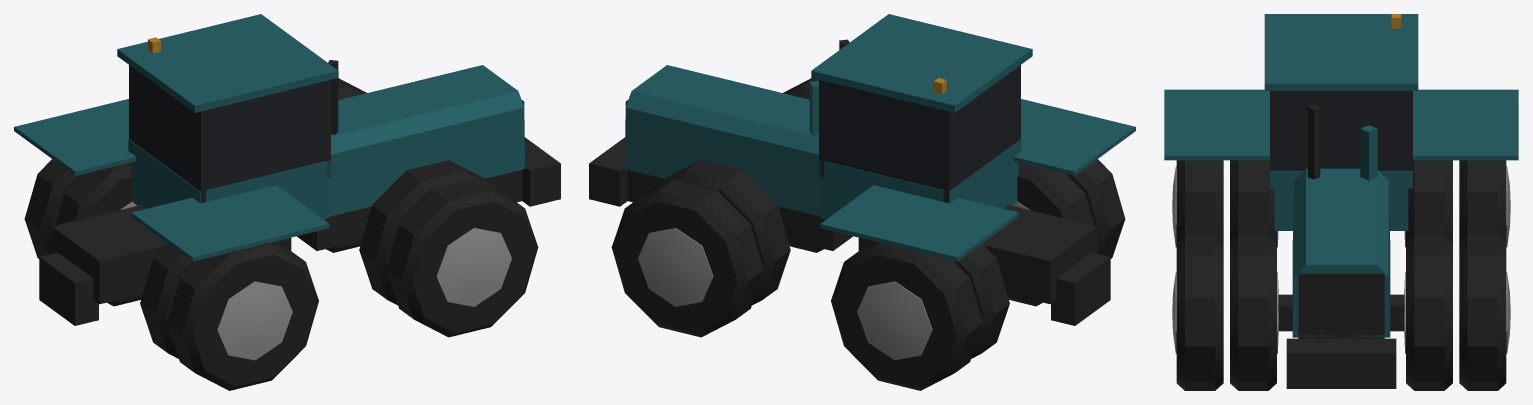
File: SM_Prop_farm_tractor4wd_0_LOD1.glb
3 renders of one model, left to right at view 1: azimuth 30°, elevation 25°; view 2: azimuth 150°, elevation 25°; view 3: azimuth 270°, elevation 25°, orthographic.
Parts seen in each view (by area): view 1: SM_Prop_farm_tractor4wd_0_LOD1; view 2: SM_Prop_farm_tractor4wd_0_LOD1; view 3: SM_Prop_farm_tractor4wd_0_LOD1.
Part boxes in pixels (x1,y1,x2,y2): SM_Prop_farm_tractor4wd_0_LOD1: (14,14,560,390); SM_Prop_farm_tractor4wd_0_LOD1: (589,14,1135,390); SM_Prop_farm_tractor4wd_0_LOD1: (1164,14,1518,390).
Size of the model in its own units: 6.95 by 3.7 by 4.51.
